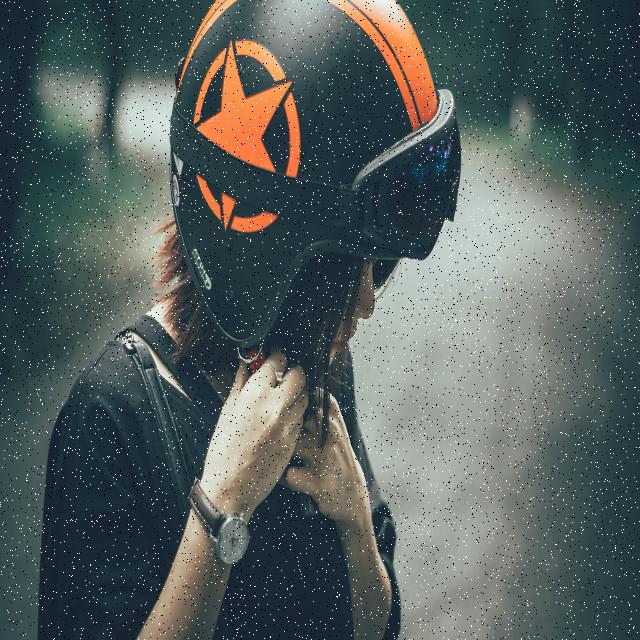Helmet: (152, 0, 466, 394)
